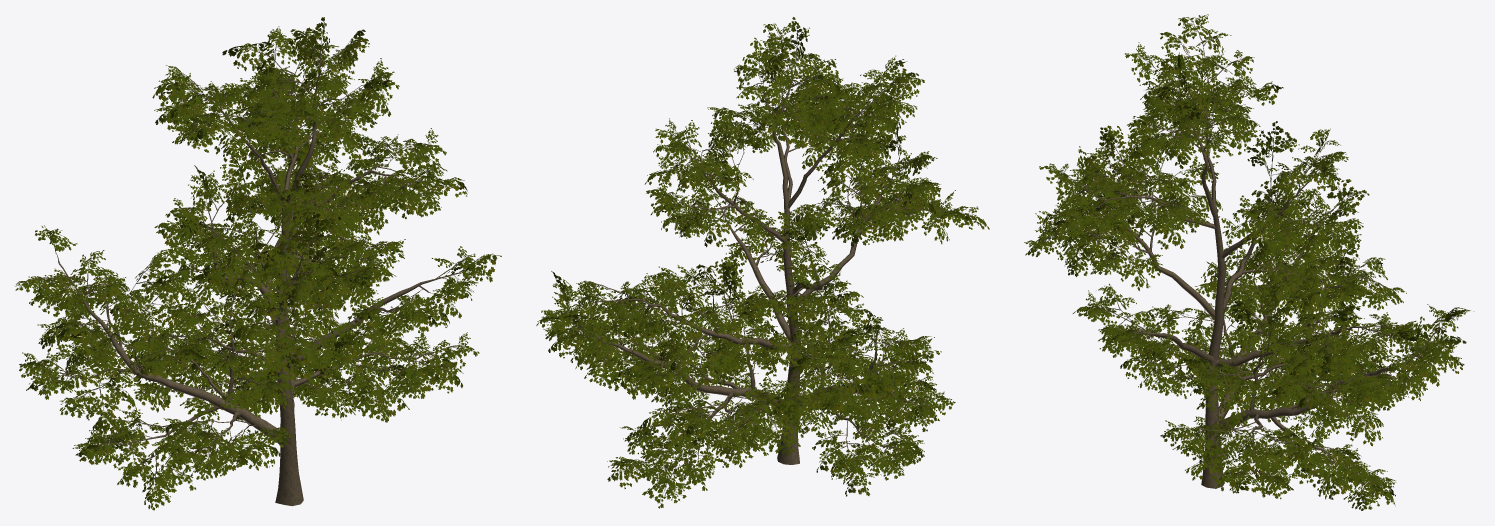
The model's file is Maple-Large-A-Candidate.glb.
The picture shows the model from 3 angles, left to right: view 1: azimuth 30°, elevation 25°; view 2: azimuth 150°, elevation 25°; view 3: azimuth 270°, elevation 25°; orthographic projection. The views are drawn at different scales.
Visible parts, largest first — view 1: Maple_large_A; view 2: Maple_large_A; view 3: Maple_large_A.
Boxes of the visible parts, x1=… form: Maple_large_A: x1=15, y1=17, x2=501, y2=510; Maple_large_A: x1=536, y1=17, x2=989, y2=508; Maple_large_A: x1=1024, y1=14, x2=1473, y2=510.
Bounding box in the file's own units: 18.69 × 20.78 × 19.72.
2 materials, 2 textured.
